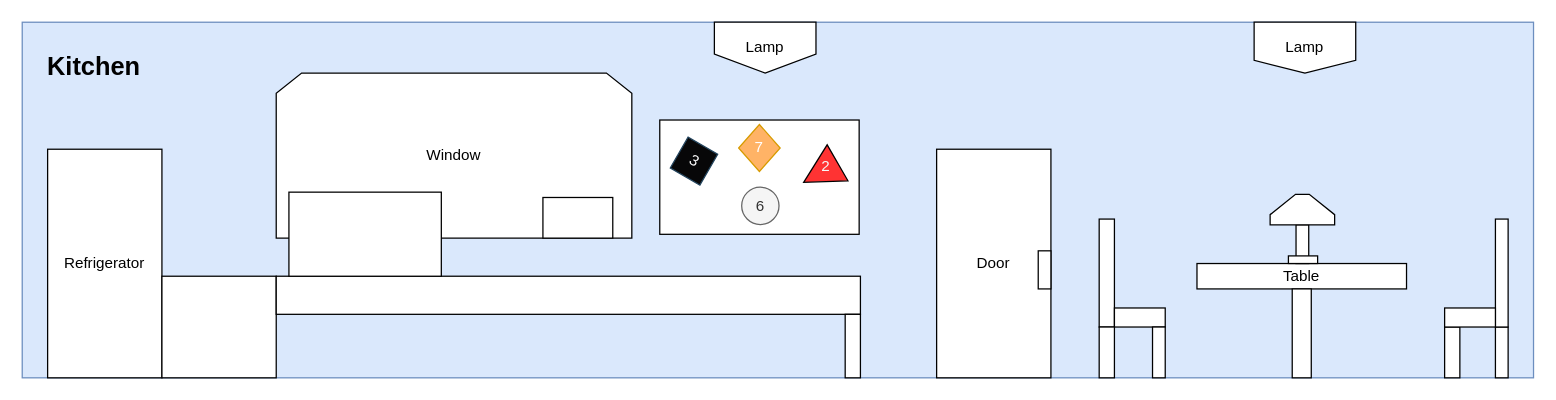
Some shapes in this 1556 by 400 pixel diagram are drawn without their labels. The box of each missing label's shape, as (x1, y1, x2, y2) in pixels:
Box: (542, 196, 613, 238)
Countertop: (275, 275, 860, 314)
Microwave: (288, 191, 441, 276)
Pinboard: (658, 119, 859, 234)
Stove: (161, 275, 276, 378)
